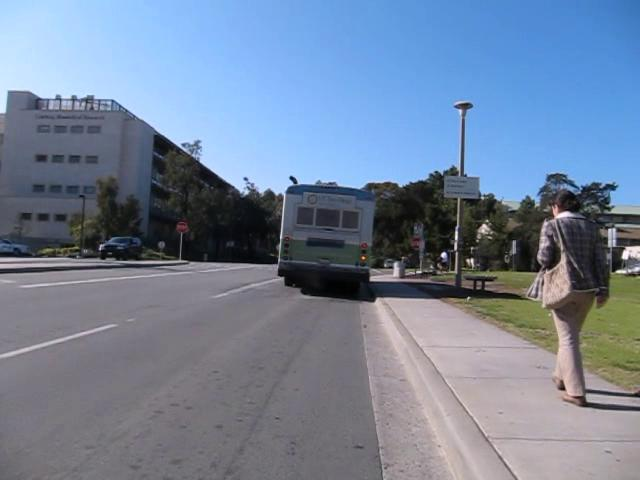stop: (175, 220, 188, 234)
